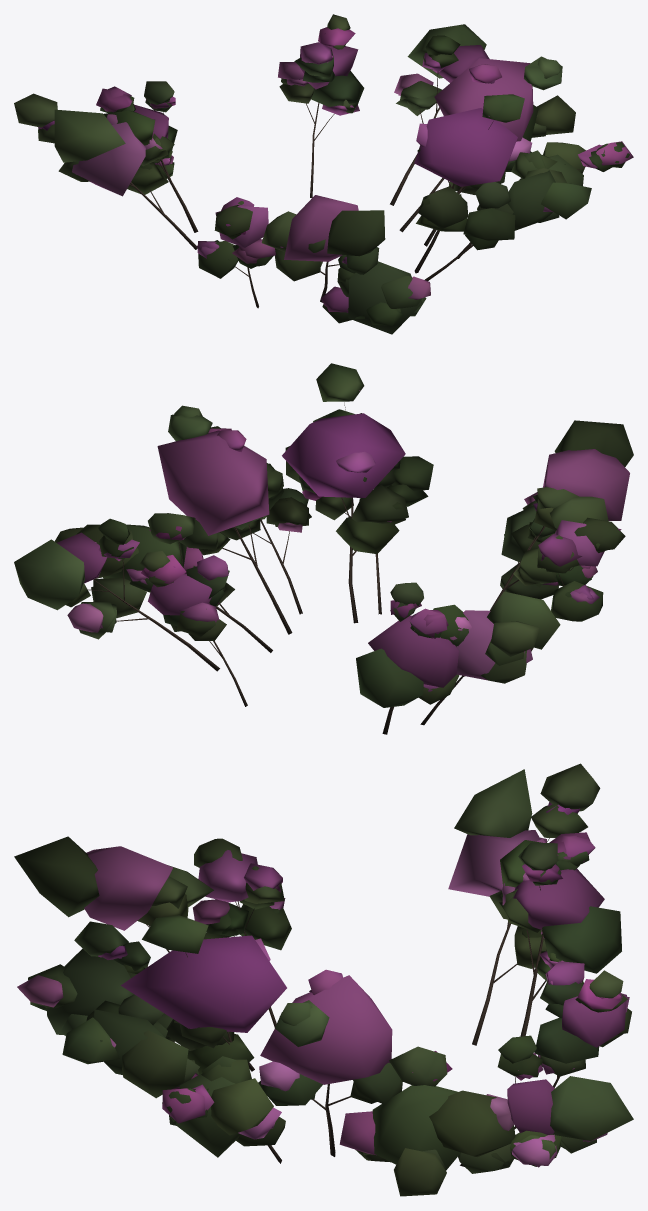
File: heather.glb
3 views of the same model, one above another, from view 1: azimuth 30°, elevation 25°; view 2: azimuth 150°, elevation 25°; view 3: azimuth 270°, elevation 25° (orthographic). The views are drawn at different scales.
Parts seen in each view (by area): view 1: heather-lo, heather; view 2: heather-lo, heather; view 3: heather-lo, heather.
Boxes of the visible parts, bbox=[...] form: heather-lo: bbox=[54, 24, 585, 334]; heather: bbox=[14, 14, 633, 325]; heather-lo: bbox=[14, 413, 633, 707]; heather: bbox=[54, 363, 625, 734]; heather-lo: bbox=[14, 769, 633, 1170]; heather: bbox=[30, 763, 631, 1196].
Size of the model in its own units: 1.8 by 0.6663 by 1.51.
